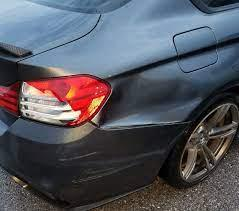Taillight-Damage: (0, 69, 120, 126)
quaterpanel-dent: (130, 18, 238, 124)
rear-bumper-dent: (0, 118, 178, 206)
